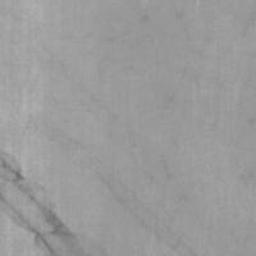Water spot: (29, 33, 189, 209), (26, 114, 201, 256), (0, 150, 104, 256)
